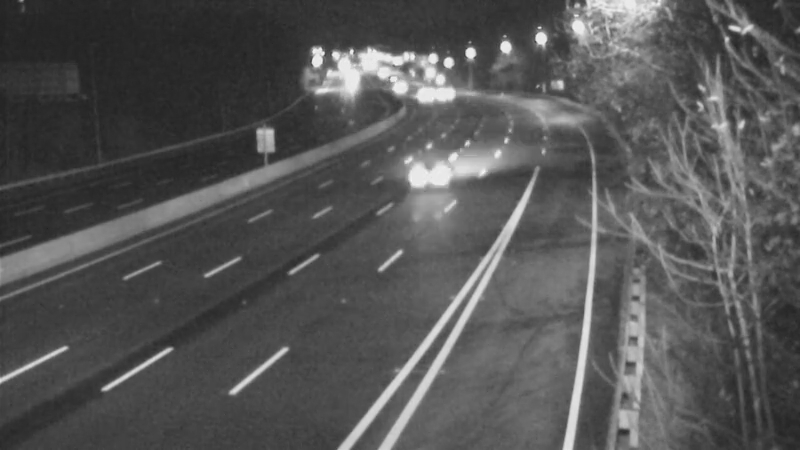vehicle: (388, 131, 468, 211), (418, 66, 468, 116), (372, 61, 422, 111), (400, 72, 450, 122)
